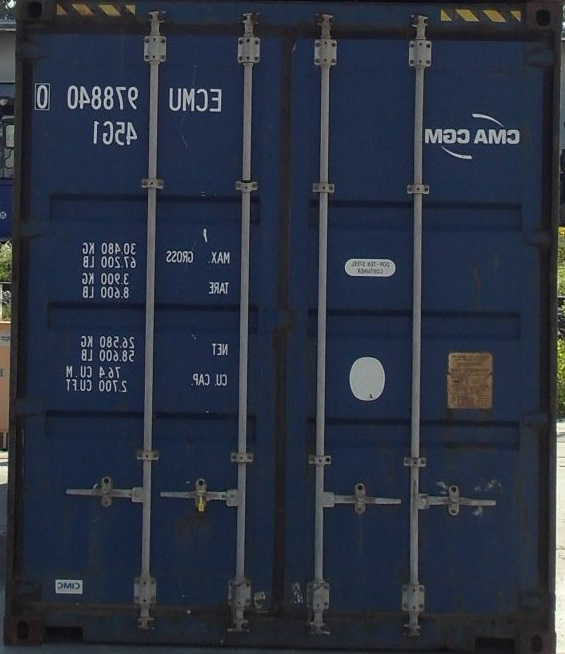container_door: (3, 7, 542, 646)
